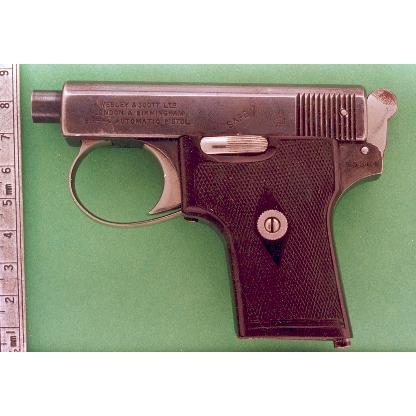gun: (30, 79, 398, 346)
